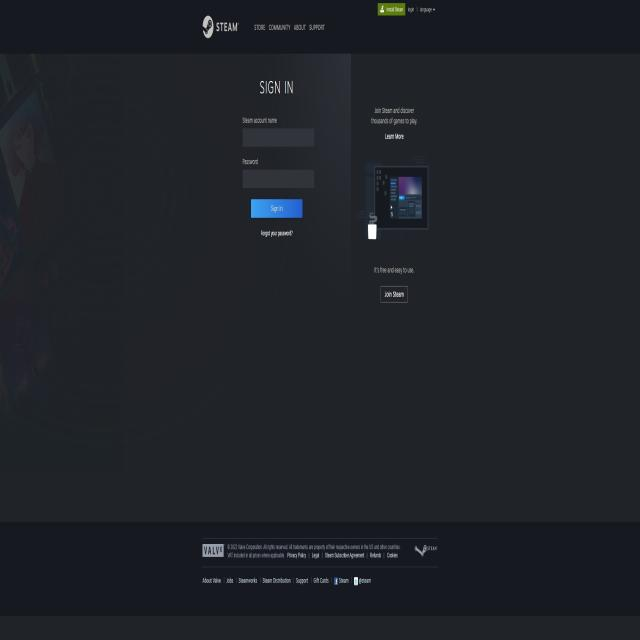tab-bar: (200, 8, 328, 41)
